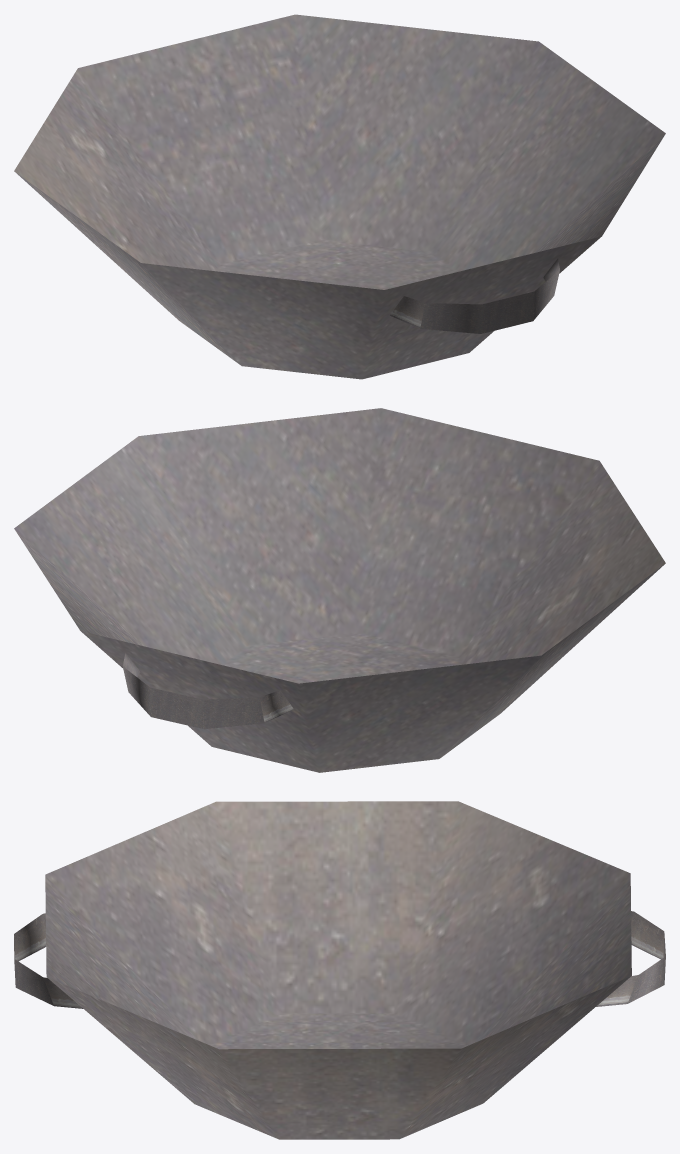
The model's file is M_Home_Garden_Kitchen_Wok.fbx.
3 views of the same model, one above another, from view 1: azimuth 30°, elevation 25°; view 2: azimuth 150°, elevation 25°; view 3: azimuth 270°, elevation 25° (orthographic). The views are drawn at different scales.
Visible parts, largest first — view 1: M_Home_Garden_Kitchen_Wok; view 2: M_Home_Garden_Kitchen_Wok; view 3: M_Home_Garden_Kitchen_Wok.
Part boxes in pixels (bbox=[...]): M_Home_Garden_Kitchen_Wok: bbox=[14, 14, 665, 379]; M_Home_Garden_Kitchen_Wok: bbox=[14, 408, 665, 772]; M_Home_Garden_Kitchen_Wok: bbox=[14, 801, 665, 1139].
Bounding box in the file's own units: 55.5 × 16.01 × 61.69.
